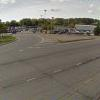Tree: (17, 13, 44, 29)
